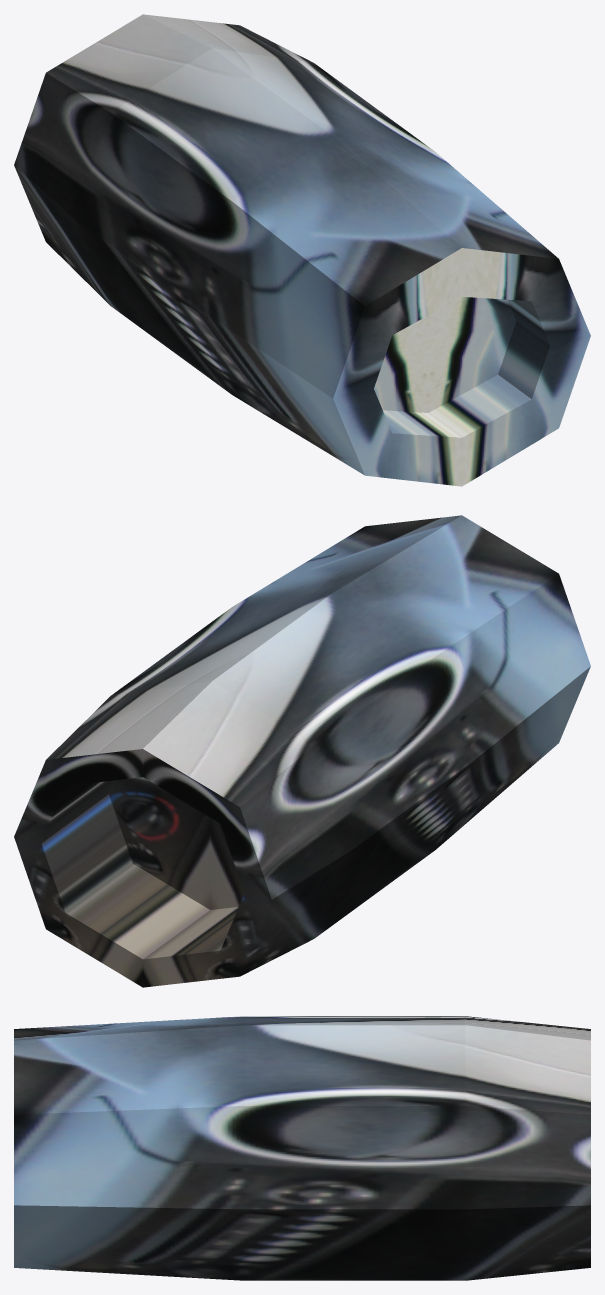
3 renders of one model, top to bottom at view 1: azimuth 30°, elevation 25°; view 2: azimuth 150°, elevation 25°; view 3: azimuth 270°, elevation 25°, orthographic. The views are drawn at different scales.
Parts seen in each view (by area): view 1: Engine-1.002_Cube.026; view 2: Engine-1.002_Cube.026; view 3: Engine-1.002_Cube.026.
Part boxes in pixels (x1,y1,x2,y2): Engine-1.002_Cube.026: (14, 14, 590, 486); Engine-1.002_Cube.026: (14, 515, 590, 987); Engine-1.002_Cube.026: (14, 1016, 590, 1280).
Bounding box in the file's own units: 4.75 × 4.48 × 9.5.
